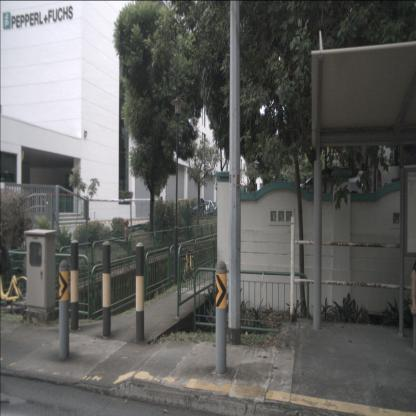vehicle-bicycle: (0, 250, 32, 319), (181, 242, 196, 284)
vehicle-car: (188, 198, 206, 218), (200, 199, 214, 216), (210, 202, 222, 215)
